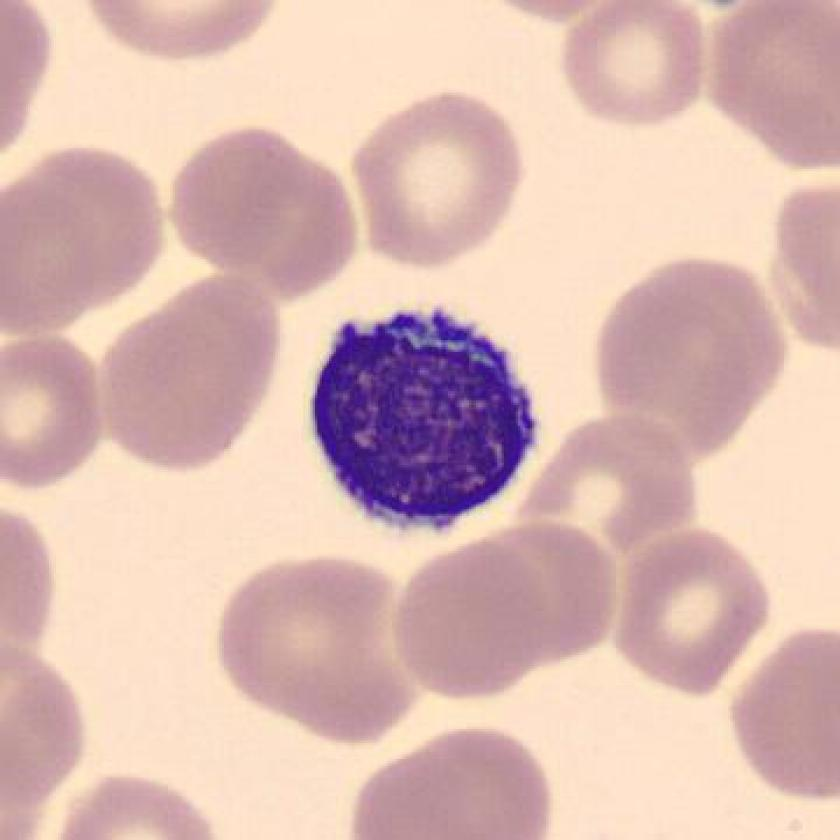lymphocyte: (293, 293, 556, 543)
